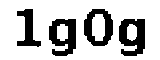0: (82, 3, 115, 50)
1: (15, 7, 43, 48)
g: (47, 16, 80, 59), (118, 17, 150, 60)
